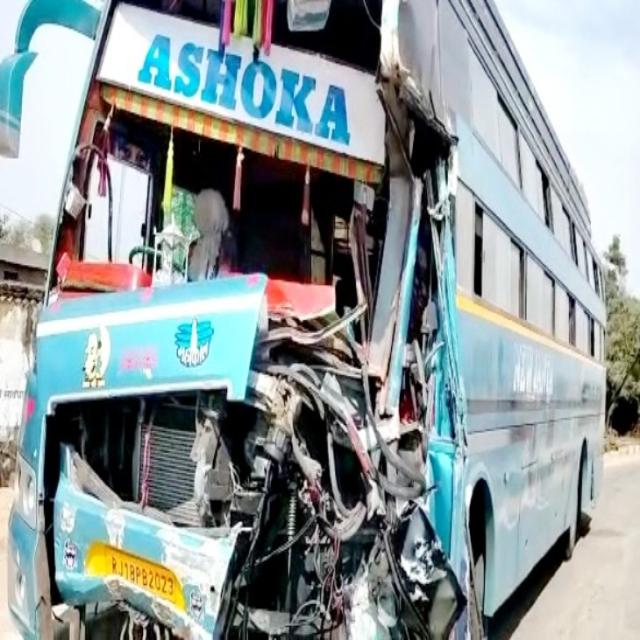accident: (1, 0, 605, 638)
